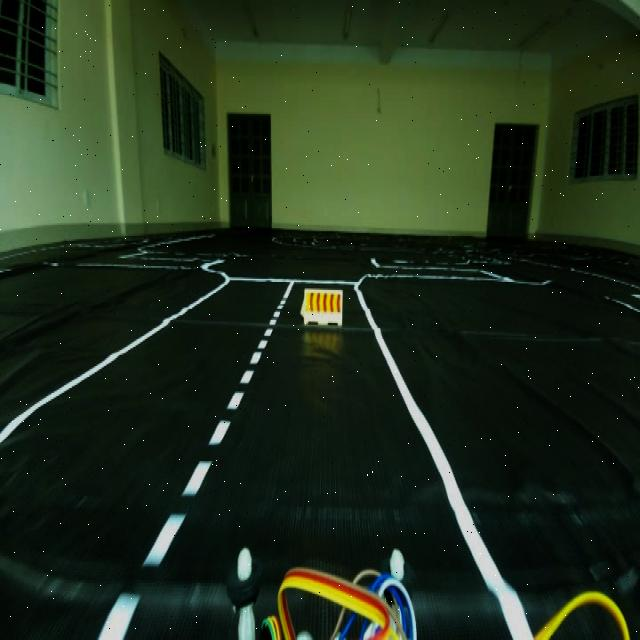roadblock: (297, 273, 349, 340)
